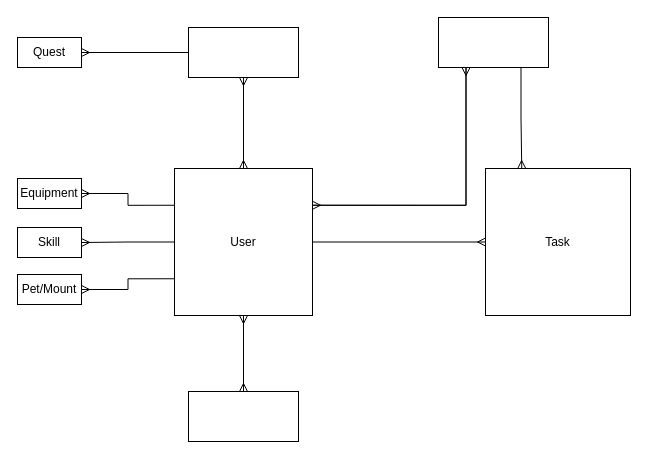
Image size: 648x459. Some labels were removed from this diagram. Here are the shapes that lost their labels. From the top down, the centre of each, then its label:
the point at 243,52: «collection» Party
the point at 493,42: «collection» Challenge
the point at 243,416: «collection» Guild
